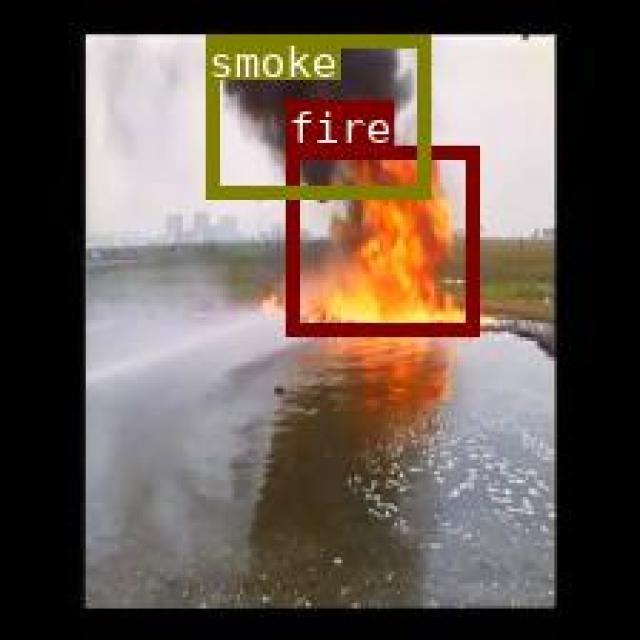fire: (285, 145, 475, 334)
smoke: (205, 33, 427, 196)
